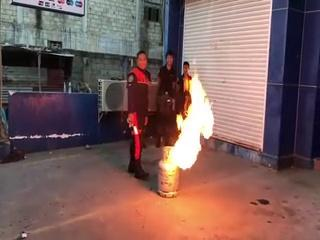Fire: (168, 64, 217, 174), (166, 60, 167, 66)
